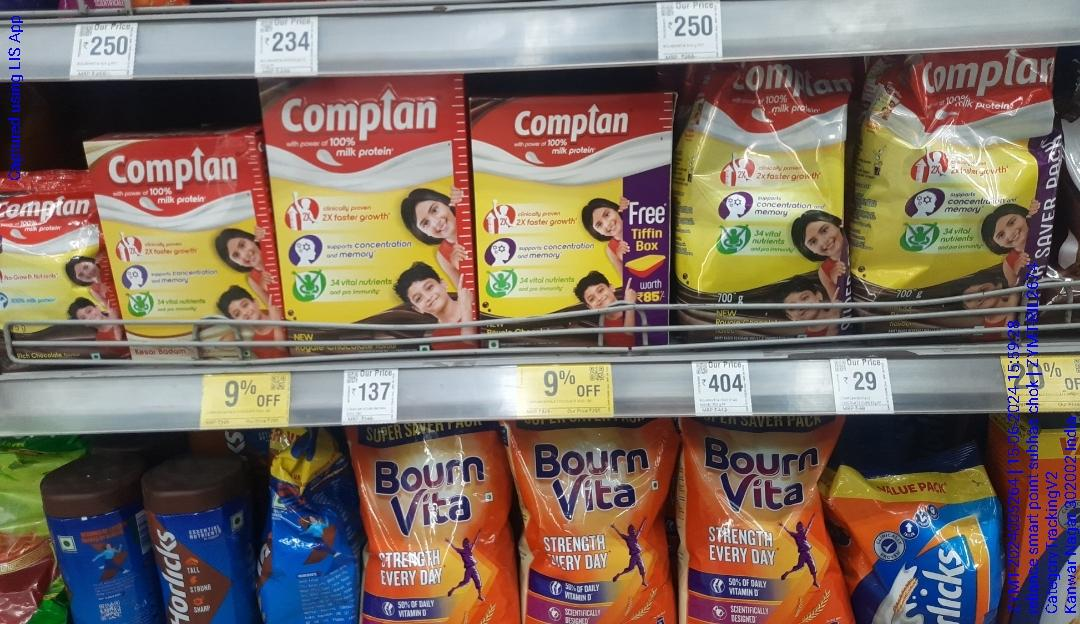BOURN_VITA_1_KG_POUCH: (685, 414, 842, 624), (370, 418, 516, 624), (526, 418, 670, 624)
COMPLAN_CHOCOLATE_500_GMS_PACK: (272, 80, 464, 355), (472, 97, 668, 344)
COMPLAN_KESAR_BADAM_200_GMS_PACK: (121, 132, 258, 363)
COMPLAN_RC_POUCH_700_GMS_12: (863, 60, 1043, 345), (679, 68, 857, 346)
HORLICK_CHOCOLATE_200_G_JAR: (148, 464, 247, 624)
